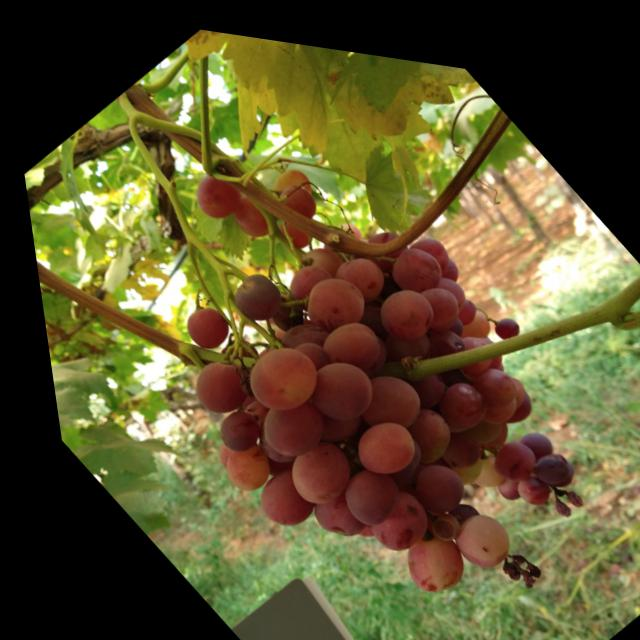grapes: (220, 319, 326, 424), (330, 344, 429, 441), (283, 333, 381, 430), (235, 371, 330, 465), (261, 418, 356, 512), (279, 251, 373, 344), (373, 505, 466, 597), (167, 336, 257, 424), (329, 393, 419, 481), (298, 294, 387, 382), (342, 469, 431, 556), (316, 443, 403, 529), (231, 451, 315, 535), (427, 485, 511, 569), (358, 262, 439, 343), (376, 382, 457, 463), (386, 436, 467, 517), (371, 221, 450, 299), (412, 355, 491, 433), (315, 231, 391, 306), (199, 425, 273, 499), (291, 471, 363, 544), (178, 154, 249, 225), (215, 256, 286, 327), (259, 300, 331, 370), (397, 261, 466, 330), (293, 378, 362, 447), (270, 244, 338, 310), (216, 175, 282, 241), (387, 212, 454, 277), (452, 340, 518, 405), (346, 207, 412, 271), (196, 394, 261, 458), (369, 299, 434, 363), (167, 290, 231, 354), (471, 415, 535, 479), (284, 225, 347, 287), (388, 345, 448, 405), (257, 149, 317, 208), (435, 312, 494, 370), (250, 277, 308, 335), (406, 304, 464, 361), (264, 167, 321, 223), (272, 322, 329, 378), (334, 318, 391, 374), (424, 410, 479, 465), (240, 413, 295, 467), (414, 255, 468, 309), (439, 287, 492, 339), (452, 434, 503, 485), (468, 372, 519, 421), (224, 385, 274, 434), (497, 450, 547, 499), (485, 372, 533, 419), (502, 407, 550, 454), (196, 424, 243, 471), (519, 431, 566, 478), (416, 234, 462, 281), (268, 200, 312, 244), (454, 395, 498, 439), (464, 402, 509, 445), (422, 295, 465, 337), (437, 435, 480, 477), (460, 318, 501, 360), (412, 494, 453, 536), (430, 482, 469, 521), (480, 454, 519, 493), (440, 279, 477, 316), (481, 295, 518, 332), (489, 359, 525, 394), (523, 427, 559, 462), (328, 206, 361, 240), (342, 510, 366, 533)
